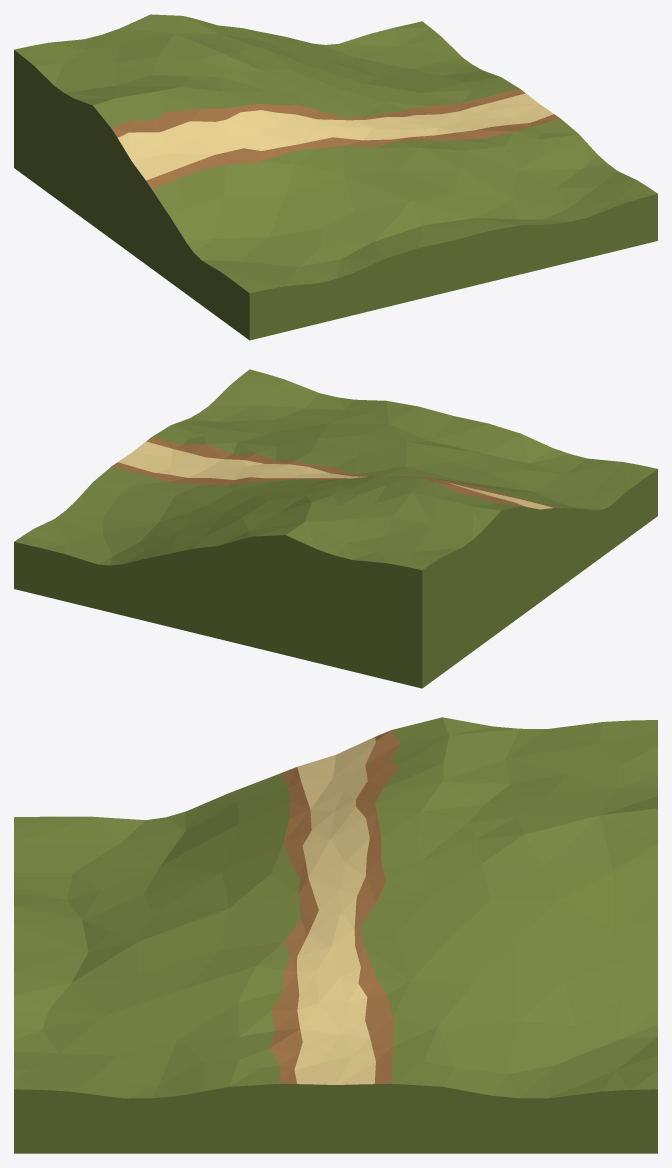
The model's file is Terrian_Road_Straight_HillCorner-02.fbx.
The picture shows the model from 3 angles, top to bottom: view 1: azimuth 30°, elevation 25°; view 2: azimuth 150°, elevation 25°; view 3: azimuth 270°, elevation 25°; orthographic projection. The views are drawn at different scales.
Visible parts, largest first — view 1: Terrian_Road_Straight_HillCorner-02; view 2: Terrian_Road_Straight_HillCorner-02; view 3: Terrian_Road_Straight_HillCorner-02.
Part boxes in pixels (bbox=[...]): Terrian_Road_Straight_HillCorner-02: bbox=[14, 14, 657, 340]; Terrian_Road_Straight_HillCorner-02: bbox=[14, 369, 657, 688]; Terrian_Road_Straight_HillCorner-02: bbox=[14, 717, 657, 1153].
Size of the model in its own units: 3600 by 1013 by 3600.
Materials: 1 (1 with a texture image).
